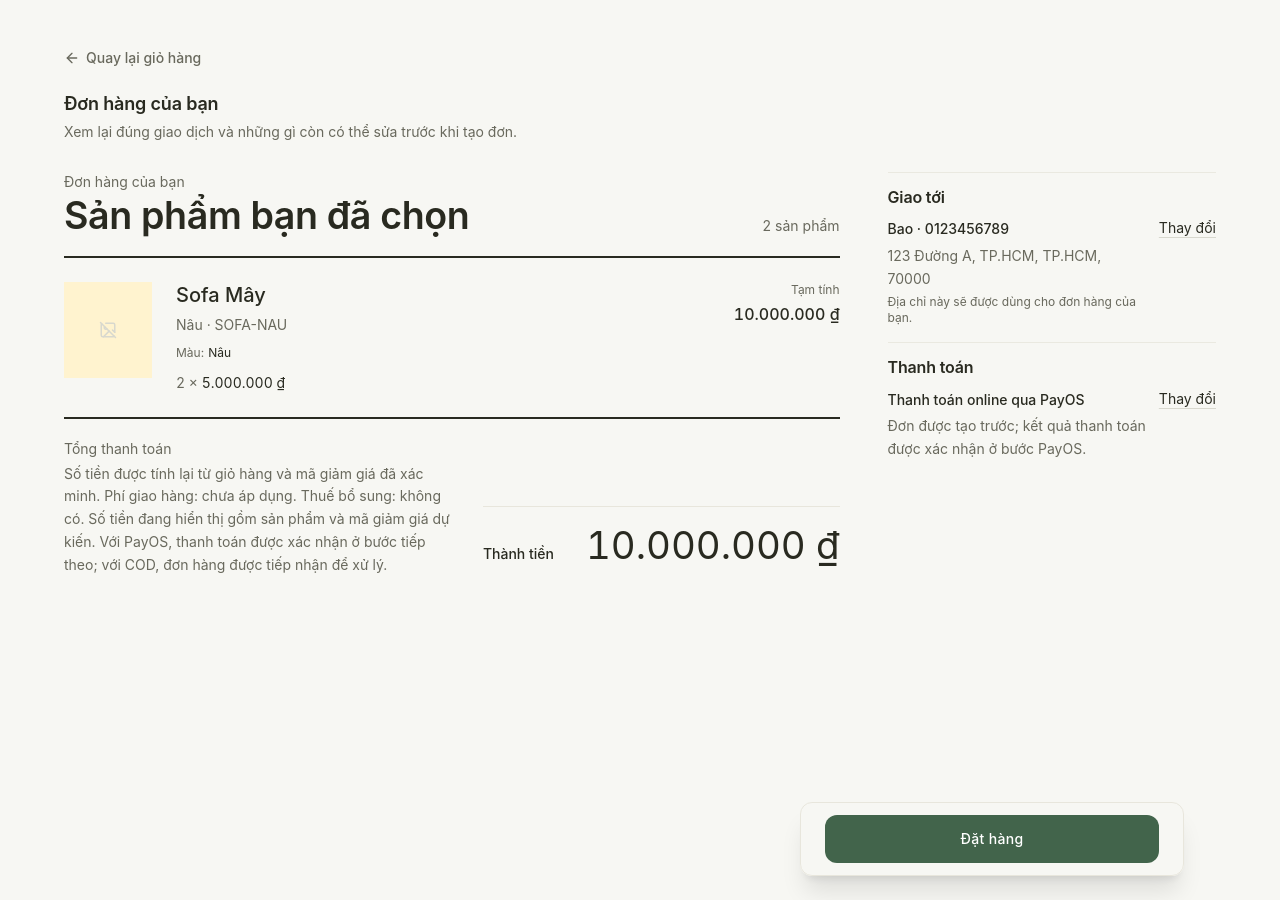
Test: CheckoutPage › shows only the selected address at rest and reveals alternatives on explicit change
expect the text "Sofa Mây" is shown: met, box top-left (176, 283), bottom-right (266, 307)
expect the text "Bao · 0123456789" is shown: met, box top-left (888, 220), bottom-right (1009, 237)
Step 1. Click the button "Thay đổi" next to "0123456789" → (1187,228), box top-left (1159, 218), bottom-right (1216, 238)
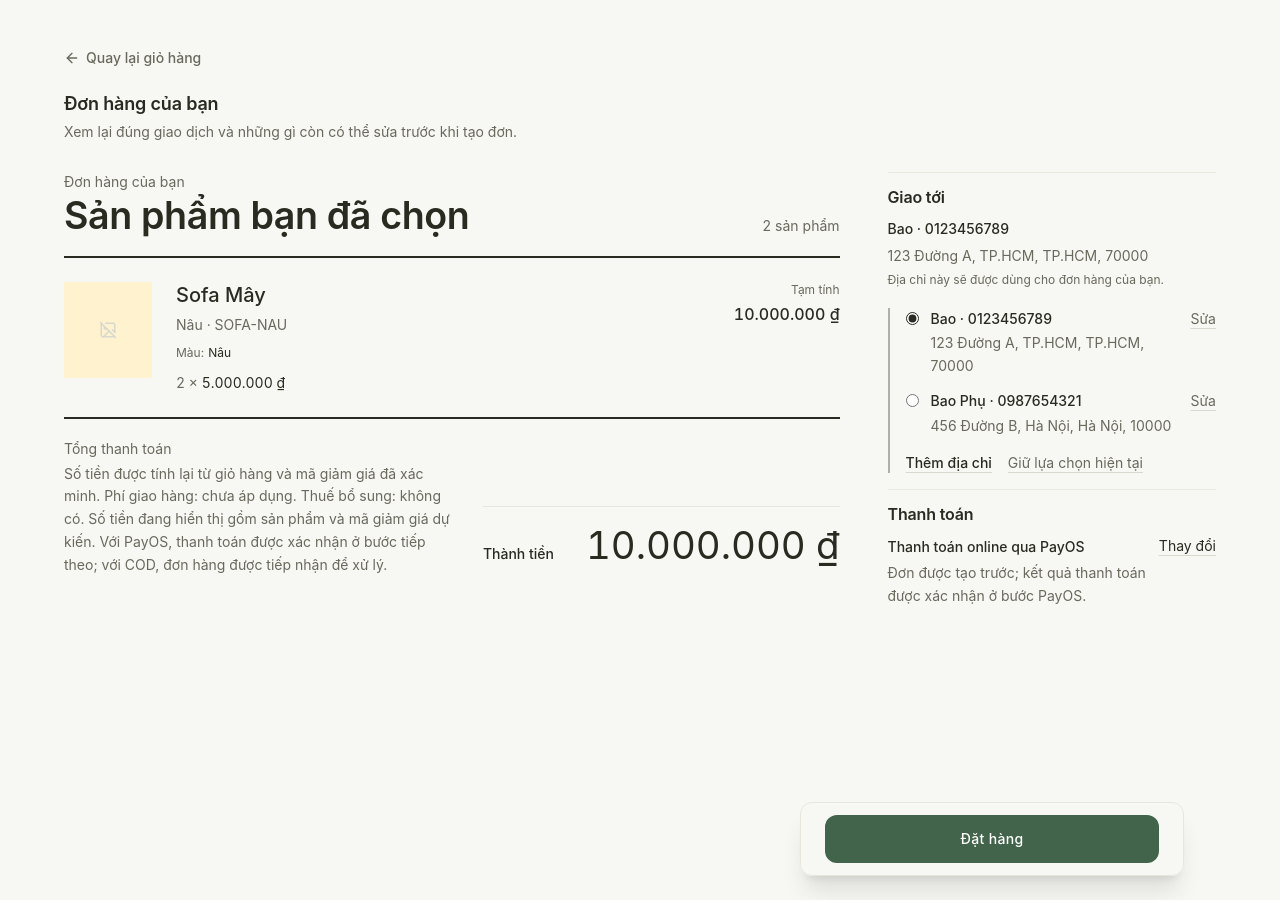
Step 2. Click the radio button labelled "Bao Phụ · 0987654321 456 Đường B, Hà Nội, Hà Nội, 10000 Sửa" → (912,400), box top-left (906, 394), bottom-right (918, 407)
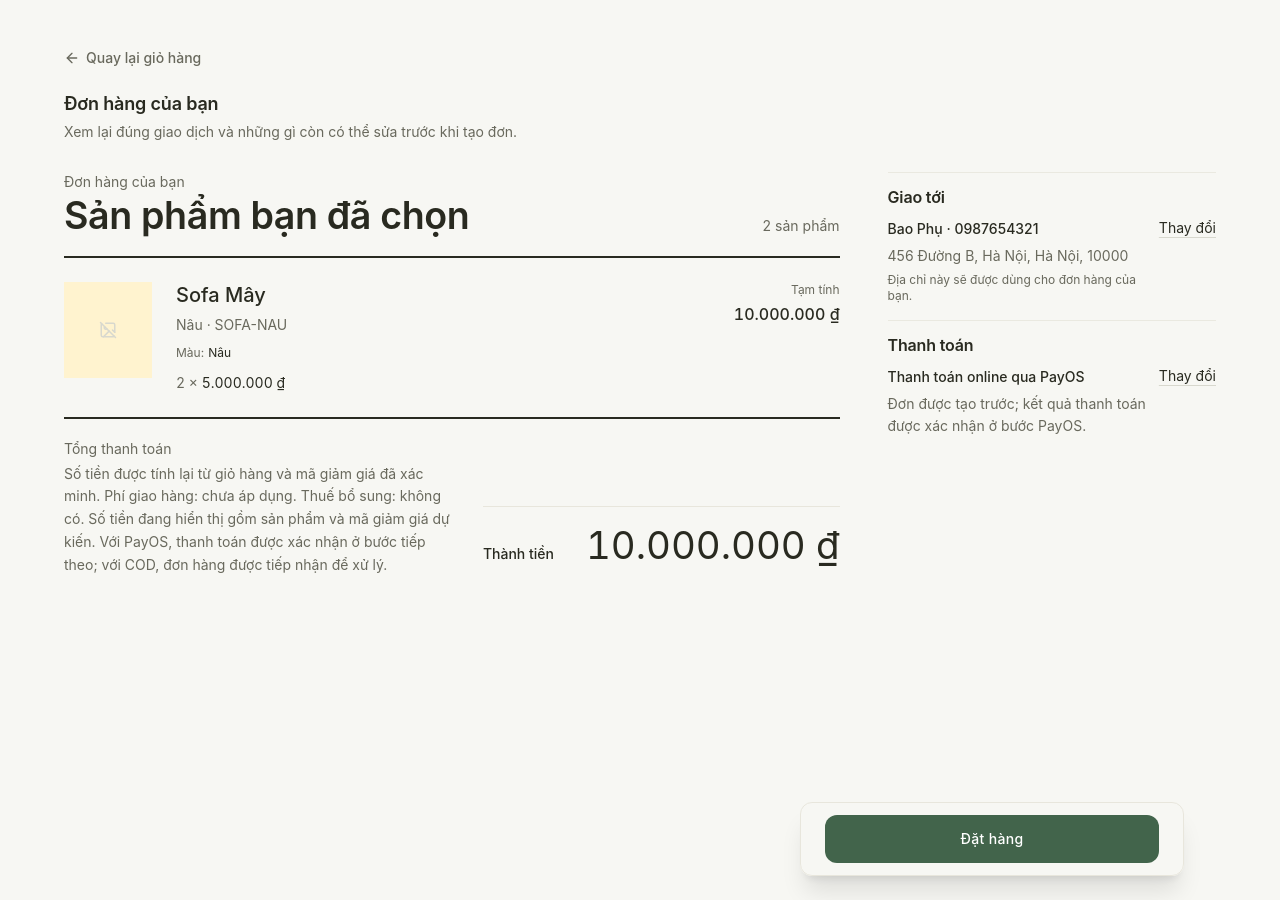
expect the text "Bao Phụ · 0987654321" is shown: met, box top-left (888, 220), bottom-right (1038, 237)
expect the radio button is gone: met
